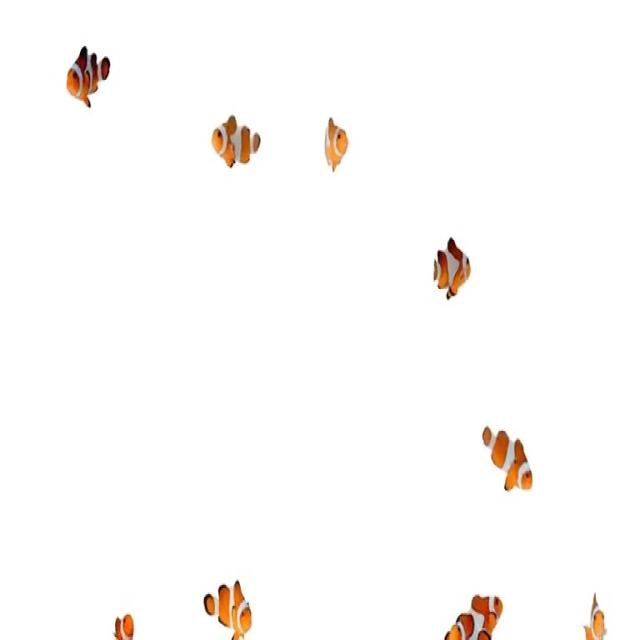fish: (481, 411, 536, 500), (428, 222, 474, 306), (207, 112, 264, 172), (63, 44, 113, 112), (200, 582, 258, 640), (446, 590, 507, 640), (324, 112, 352, 176), (114, 611, 136, 640)
